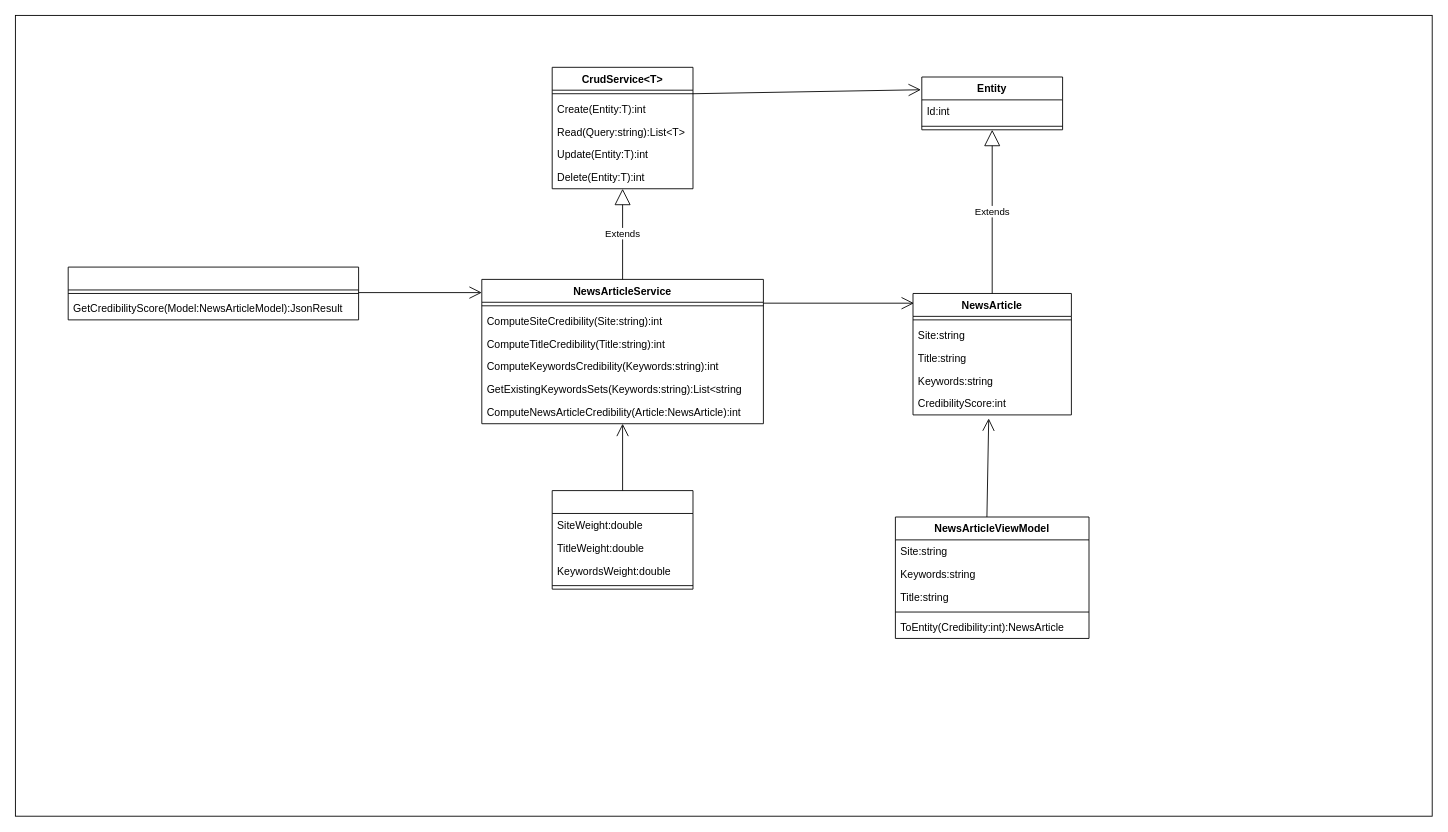
This 1448x832 diagram has some shape labels left out. The shapes that lost their labels are listed below. From the top down, each one's box as (x1, y1, x2, y2) in pixels, then its label:
(67, 266, 359, 320): NewsArticleController
(551, 490, 693, 589): Weights
